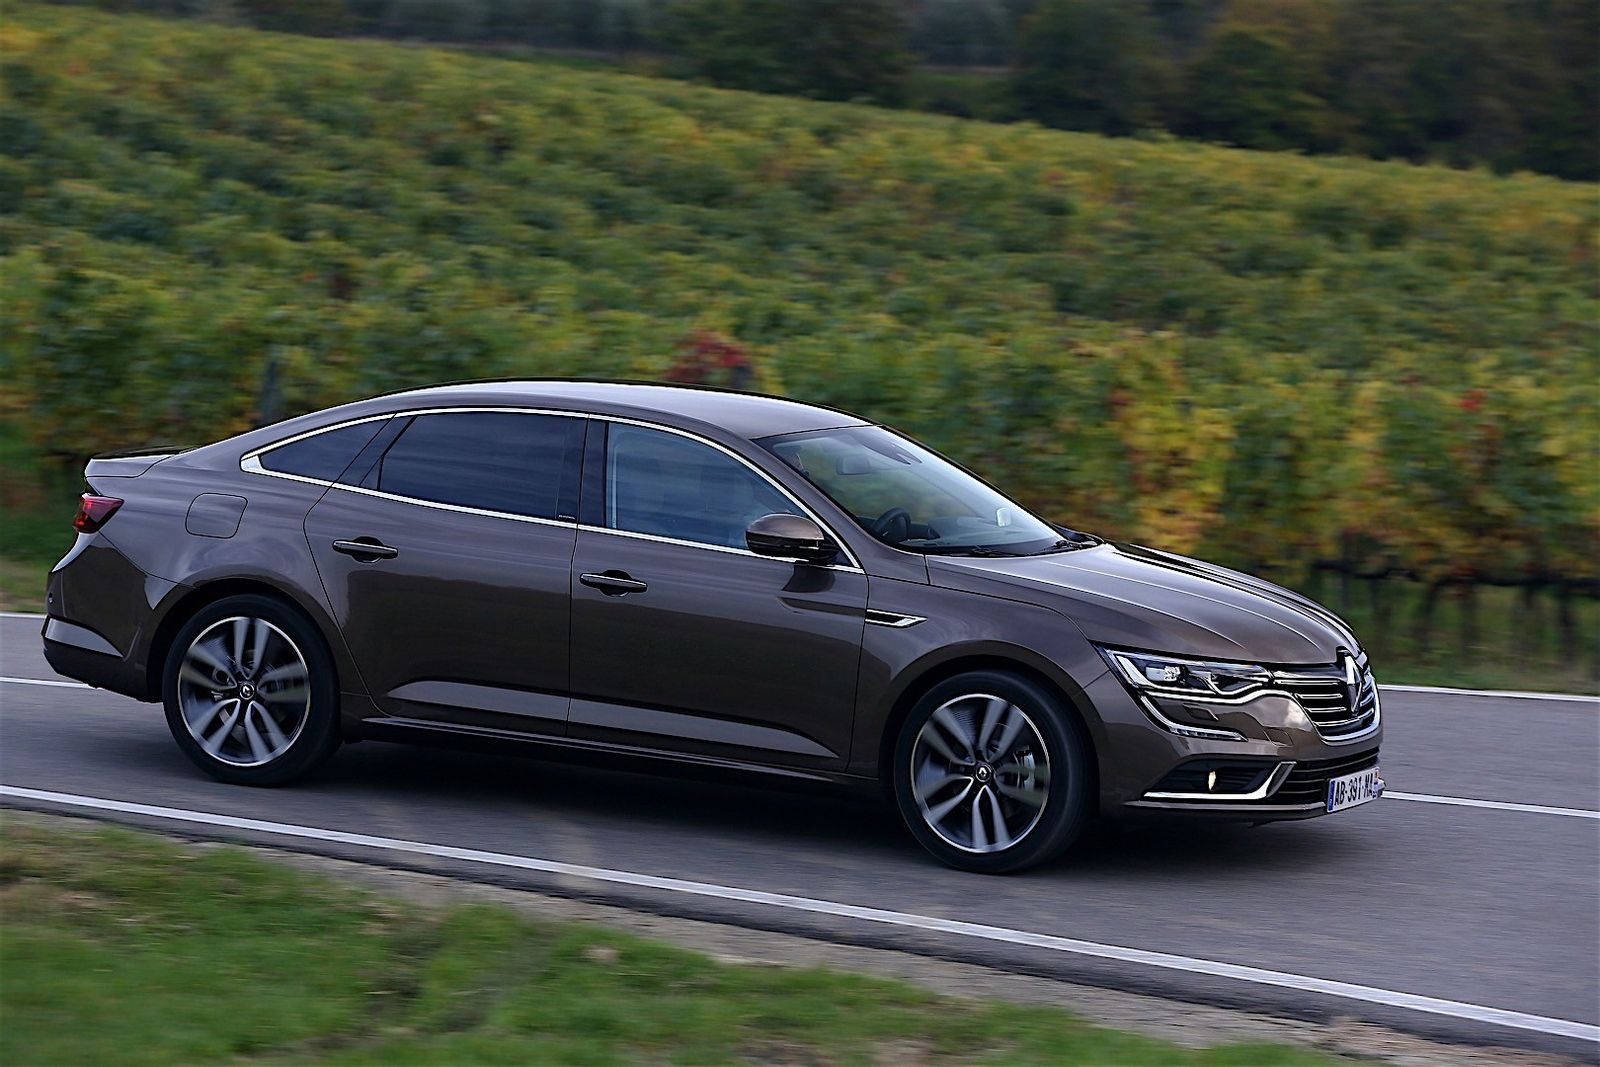car: (37, 377, 1387, 875)
